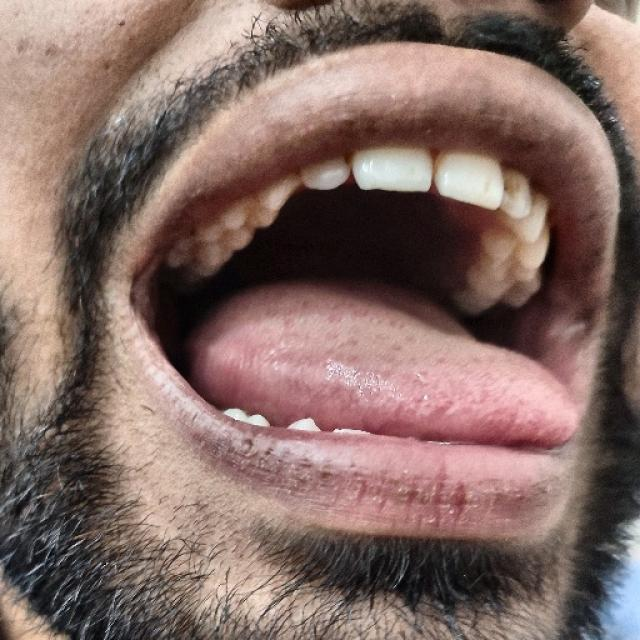processing_area: (196, 269, 572, 443)
